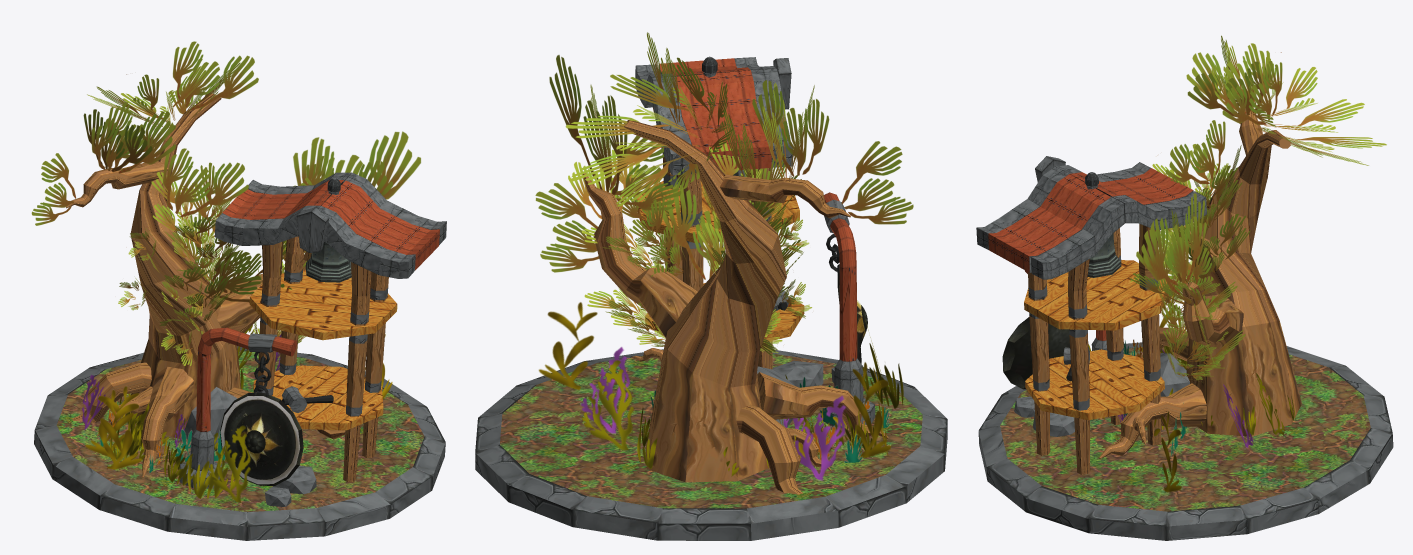
File: tower_2.glb
3 renders of one model, left to right at view 1: azimuth 30°, elevation 25°; view 2: azimuth 150°, elevation 25°; view 3: azimuth 270°, elevation 25°, orthographic. The views are drawn at different scales.
Parts seen in each view (by area): view 1: Cylinder.004_0, Plane_0, Cylinder.004_1, Cylinder_0, Cylinder.006_0, Cylinder.001_0, Cylinder.003_0, Cylinder.005_0, Cube_0, Plane.001_0, Cube_1, Cylinder.009_0 (+8 smaller); view 2: Cylinder_0, Cylinder.004_1, Cylinder.004_0, Plane_0, Cylinder.001_0, Plane.001_0, Cylinder.003_0, Cylinder.002_0, Cube_1, Cube_0, Cylinder.006_0, Cylinder.008_1 (+5 smaller); view 3: Cylinder.004_1, Cylinder.004_0, Cylinder_0, Cylinder.006_0, Plane_0, Cylinder.005_0, Cube_0, Cylinder.003_0, Cube_1, Cylinder.001_0, Cylinder.002_0, Plane.001_0 (+4 smaller).
Boxes of the visible parts, bbox=[...] form: Cylinder.004_0: bbox=[34, 346, 445, 540]; Plane_0: bbox=[31, 41, 420, 302]; Cylinder.004_1: bbox=[56, 350, 424, 511]; Cylinder_0: bbox=[130, 93, 241, 438]; Cylinder.006_0: bbox=[249, 270, 397, 430]; Cylinder.001_0: bbox=[66, 161, 360, 477]; Cylinder.003_0: bbox=[118, 162, 306, 365]; Cylinder.005_0: bbox=[258, 236, 388, 481]; Cube_0: bbox=[214, 172, 446, 278]; Plane.001_0: bbox=[81, 325, 392, 503]; Cube_1: bbox=[222, 180, 439, 270]; Cylinder.009_0: bbox=[220, 392, 303, 485]; Cylinder_0: bbox=[620, 120, 786, 482]; Cylinder.004_1: bbox=[500, 353, 922, 508]; Cylinder.004_0: bbox=[475, 349, 947, 540]; Plane_0: bbox=[535, 32, 913, 279]; Cylinder.001_0: bbox=[582, 173, 888, 494]; Plane.001_0: bbox=[538, 302, 903, 480]; Cylinder.003_0: bbox=[581, 140, 811, 355]; Cylinder.002_0: bbox=[565, 57, 732, 206]; Cube_1: bbox=[659, 58, 771, 171]; Cube_0: bbox=[635, 57, 792, 175]; Cylinder.006_0: bbox=[634, 180, 804, 341]; Cylinder.008_1: bbox=[824, 192, 857, 361]; Cylinder.004_1: bbox=[1000, 347, 1370, 511]; Cylinder.004_0: bbox=[978, 342, 1393, 540]; Cylinder_0: bbox=[1186, 130, 1301, 436]; Cylinder.006_0: bbox=[1024, 260, 1166, 420]; Plane_0: bbox=[1130, 35, 1282, 366]; Cylinder.005_0: bbox=[1028, 224, 1161, 474]; Cube_0: bbox=[976, 162, 1206, 279]; Cylinder.003_0: bbox=[1152, 144, 1250, 380]; Cube_1: bbox=[988, 168, 1193, 272]; Cylinder.001_0: bbox=[1099, 108, 1262, 458]; Cylinder.002_0: bbox=[1249, 52, 1386, 165]; Plane.001_0: bbox=[1088, 284, 1295, 492].
Bounding box in the file's own units: 14.94 × 15.24 × 13.86.
14 materials, 14 textured.
